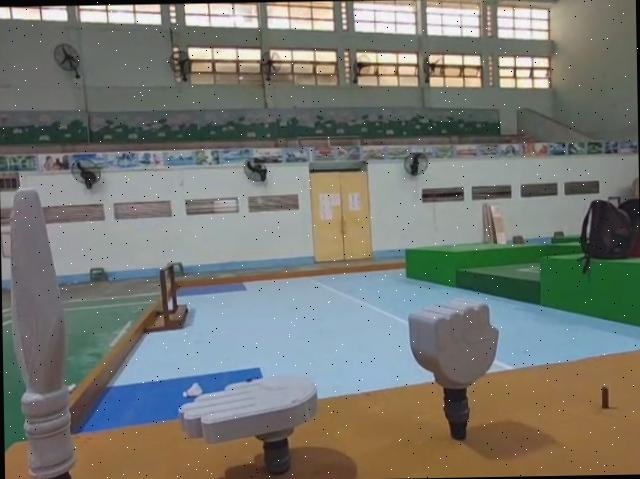Fist: (404, 297, 505, 446)
Hand: (180, 367, 322, 478)
Sph: (0, 175, 67, 479)
